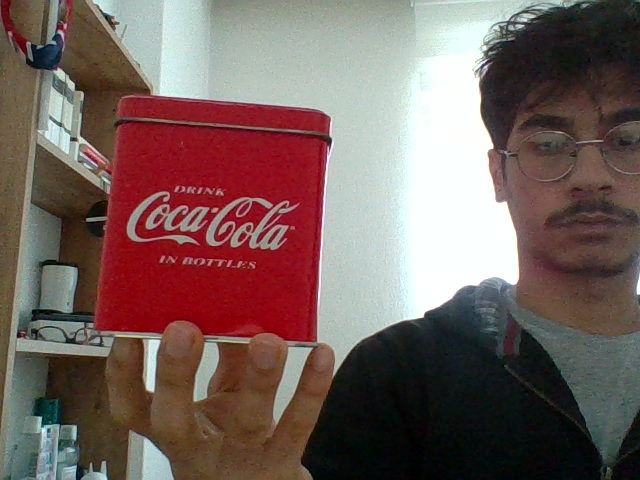CocaColaBox: (104, 97, 329, 333)
